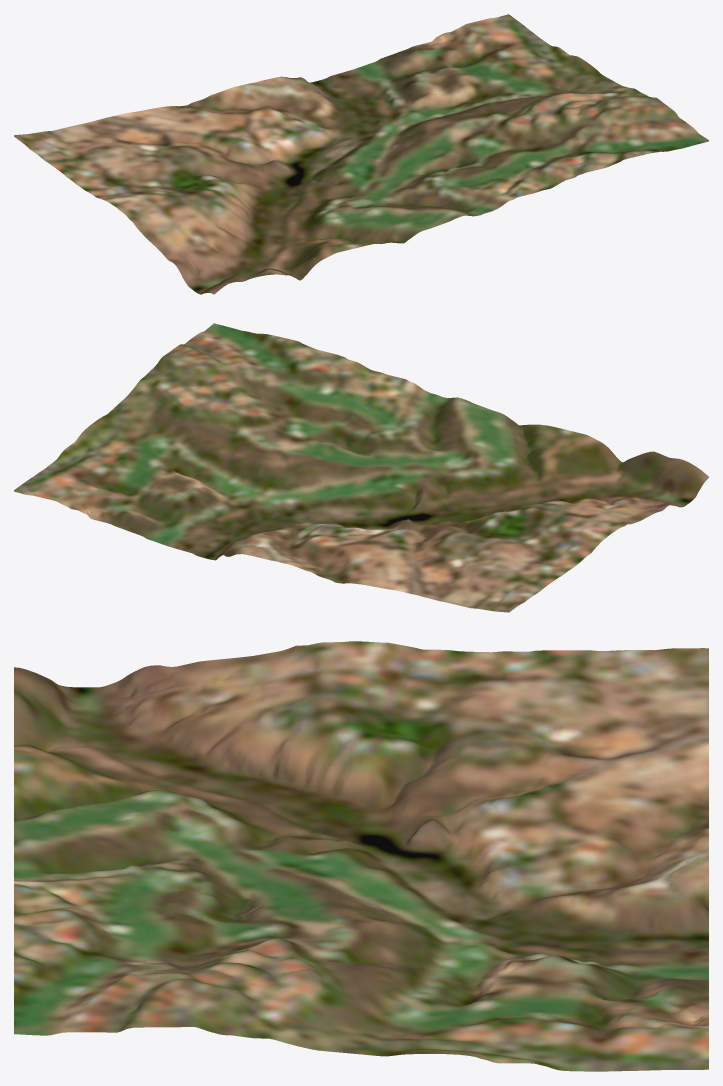
Rendered from terrain_r2_c0.glb.
3 views of the same model, one above another, from view 1: azimuth 30°, elevation 25°; view 2: azimuth 150°, elevation 25°; view 3: azimuth 270°, elevation 25° (orthographic). The views are drawn at different scales.
Visible parts, largest first — view 1: terrain_r2_c0_lod0; view 2: terrain_r2_c0_lod0; view 3: terrain_r2_c0_lod0.
Boxes of the visible parts, x1=… form: terrain_r2_c0_lod0: x1=14, y1=14, x2=708, y2=294; terrain_r2_c0_lod0: x1=14, y1=323, x2=708, y2=612; terrain_r2_c0_lod0: x1=14, y1=641, x2=708, y2=1071.
Bounding box in the file's own units: 1125 × 110 × 787.
Materials: 1 (1 with a texture image).
